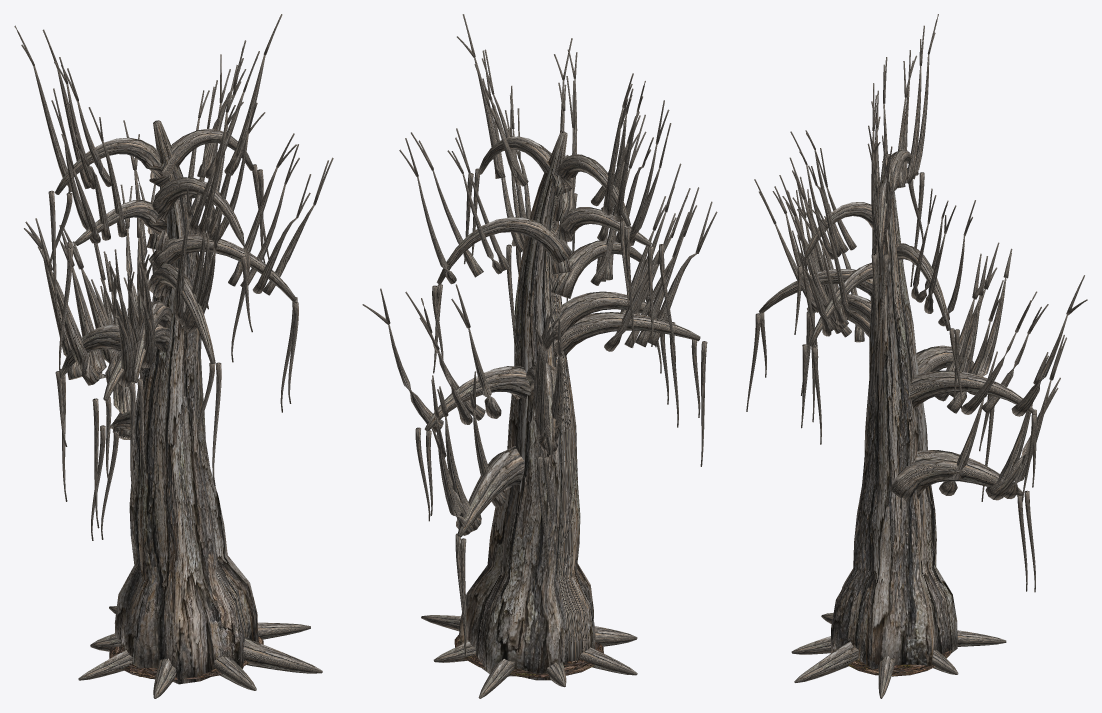
The model's file is weeping-willow-v02.glb.
3 renders of one model, left to right at view 1: azimuth 30°, elevation 25°; view 2: azimuth 150°, elevation 25°; view 3: azimuth 270°, elevation 25°, orthographic. The views are drawn at different scales.
Visible parts, largest first — view 1: deeply furrowed winding trunk, massive gnarled bough.011, massive gnarled bough.010, massive gnarled bough.009, massive gnarled bough.005, massive gnarled bough, radiating buttress root.007, massive gnarled bough.006, forked weathered limb.019, massive gnarled bough.004, forked weathered limb.018, massive gnarled bough.008 (+27 smaller); view 2: deeply furrowed winding trunk, massive gnarled bough.007, massive gnarled bough.001, massive gnarled bough.003, massive gnarled bough.002, massive gnarled bough.008, massive gnarled bough.009, massive gnarled bough.006, massive gnarled bough.005, massive gnarled bough, massive gnarled bough.004, forked weathered limb.016 (+19 smaller); view 3: deeply furrowed winding trunk, massive gnarled bough.003, massive gnarled bough.002, radiating buttress root.007, massive gnarled bough.001, massive gnarled bough.009, massive gnarled bough.010, massive gnarled bough.004, massive gnarled bough.011, forked weathered limb.015, forked weathered limb.016, forked weathered limb.011 (+11 smaller).
Part boxes in pixels (x1,y1,x2,y2): deeply furrowed winding trunk: (114,120,258,684); massive gnarled bough.011: (148,234,296,301); massive gnarled bough.010: (152,177,249,256); massive gnarled bough.009: (148,263,215,364); massive gnarled bough.005: (54,137,164,194); massive gnarled bough: (149,128,254,187); radiating buttress root.007: (243,637,322,673); massive gnarled bough.006: (74,200,166,245); forked weathered limb.019: (50,270,102,385); massive gnarled bough.004: (60,324,146,376); forked weathered limb.018: (72,267,106,380); massive gnarled bough.008: (132,300,171,383); deeply furrowed winding trunk: (458,131,595,680); massive gnarled bough.007: (554,312,700,357); massive gnarled bough.001: (436,217,572,284); massive gnarled bough.003: (457,446,524,537); massive gnarled bough.002: (424,366,530,430); massive gnarled bough.008: (552,291,668,340); massive gnarled bough.009: (551,239,645,298); massive gnarled bough.006: (554,207,651,246); massive gnarled bough.005: (555,154,630,226); massive gnarled bough: (478,136,572,195); massive gnarled bough.004: (526,362,557,455); forked weathered limb.016: (537,351,557,453); deeply furrowed winding trunk: (831,153,957,669); massive gnarled bough.003: (890,450,1022,499); massive gnarled bough.002: (910,370,1034,413); radiating buttress root.007: (794,641,858,682); massive gnarled bough.001: (896,243,950,330); massive gnarled bough.009: (759,269,872,313); massive gnarled bough.010: (799,202,873,269); massive gnarled bough.004: (916,345,974,373); massive gnarled bough.011: (808,262,872,346); forked weathered limb.015: (939,397,984,495); forked weathered limb.016: (968,277,1006,394); forked weathered limb.011: (1011,315,1067,416).
Bounding box in the file's own units: 4.7 × 11.02 × 5.94.
2 materials, 2 textured.
